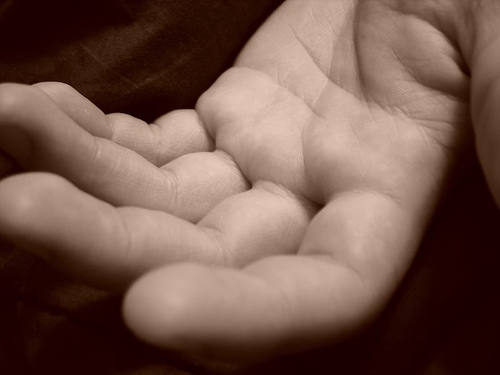palm: (242, 13, 443, 208)
